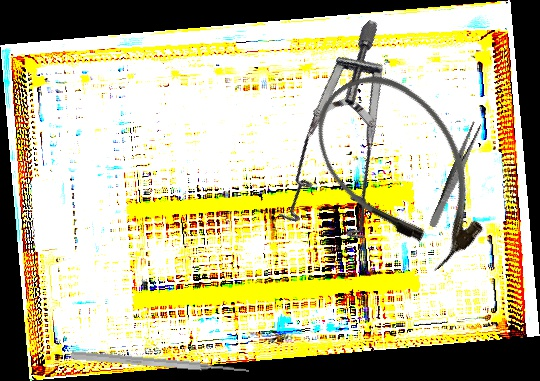Cannula: (292, 50, 512, 288)
Dressing Forceps: (427, 120, 484, 230)
Pusher: (70, 349, 250, 377)
Speculum: (225, 17, 478, 270)
